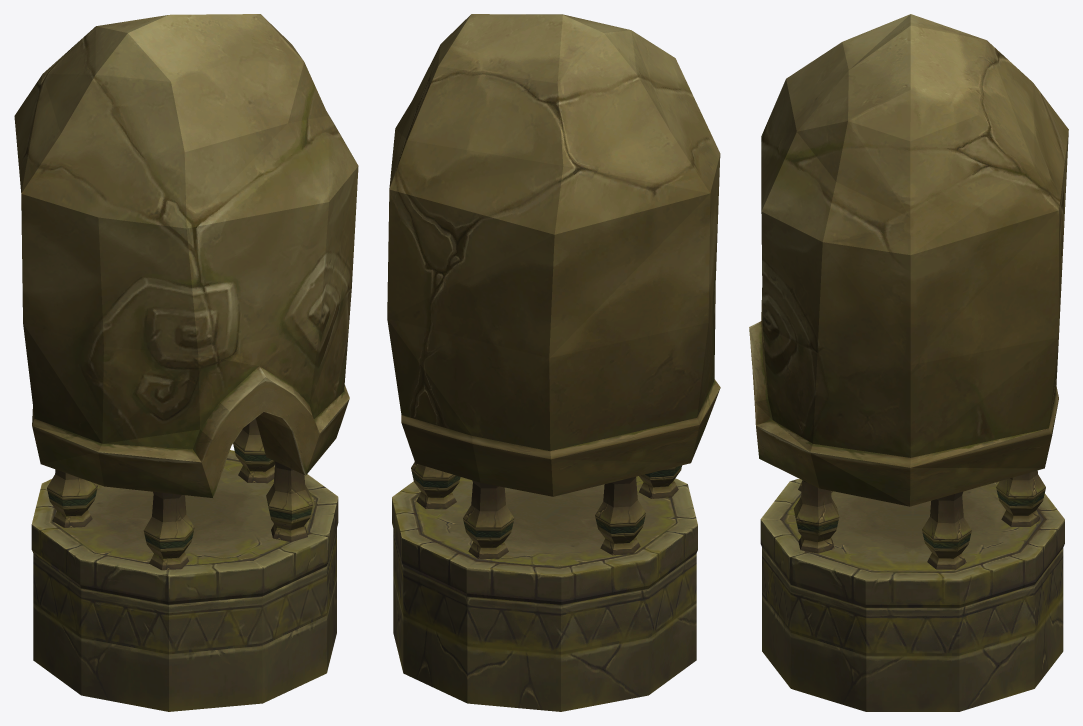
File: turrent_01.fbx
3 renders of one model, left to right at view 1: azimuth 30°, elevation 25°; view 2: azimuth 150°, elevation 25°; view 3: azimuth 270°, elevation 25°, orthographic. The views are drawn at different scales.
Parts seen in each view (by area): view 1: obj2.003; view 2: obj2.003; view 3: obj2.003.
Boxes of the visible parts, x1,y1,x2,y2 form: obj2.003: [14, 14, 358, 711]; obj2.003: [387, 14, 720, 711]; obj2.003: [749, 14, 1068, 711].
Bounding box in the file's own units: 10.39 × 20.02 × 9.39.
